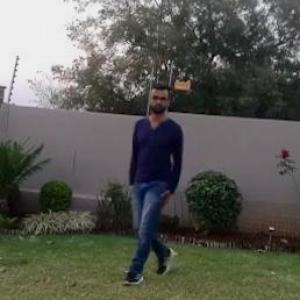follow: (130, 82, 198, 278)
